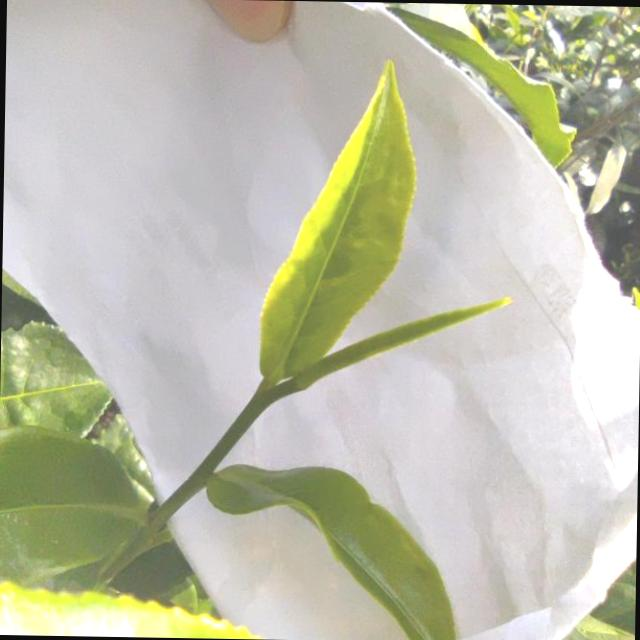Stem: (235, 391, 268, 429)
